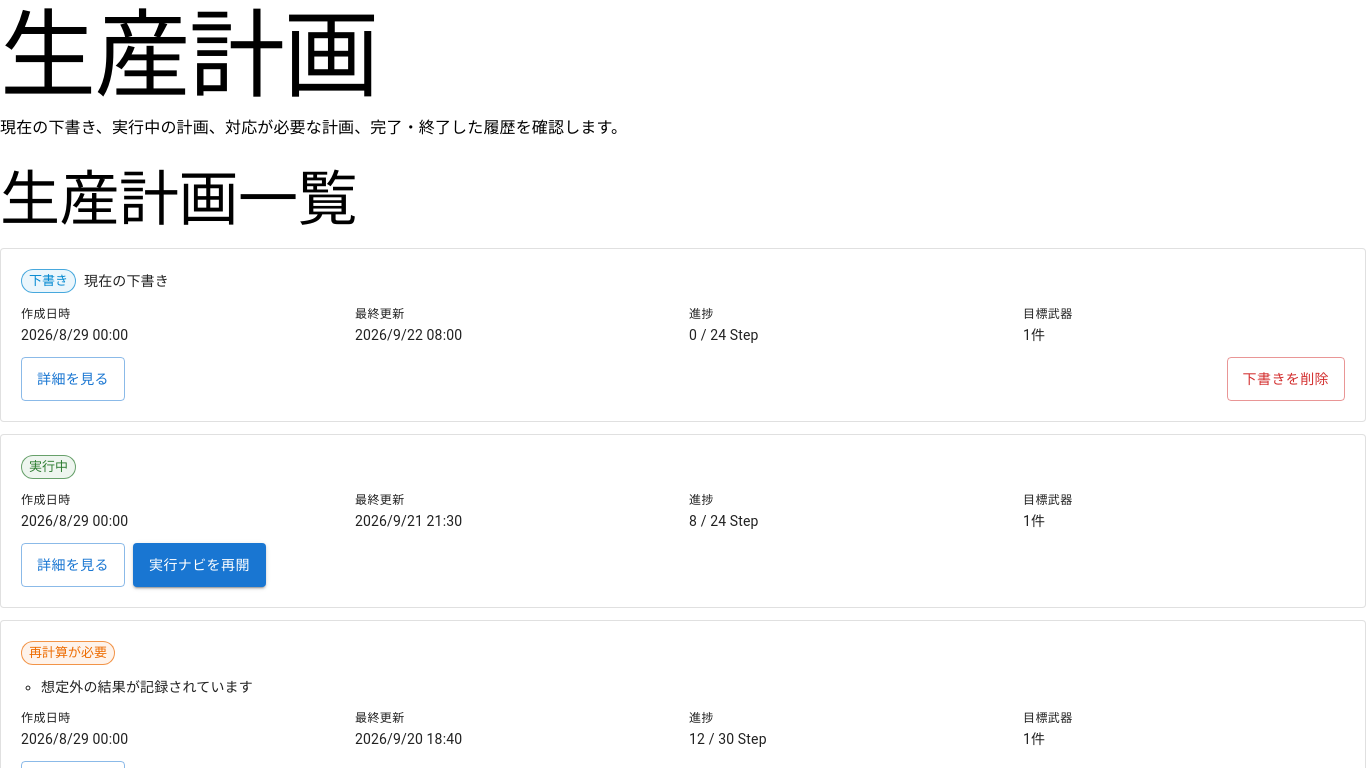
Test case: ProductionPlansPage › keeps the Draft listed and reports a typed refusal when the delete fails
The image size is (1366, 768).
Click the button "下書きを削除" at (1286, 379), box [1227,357,1345,401]
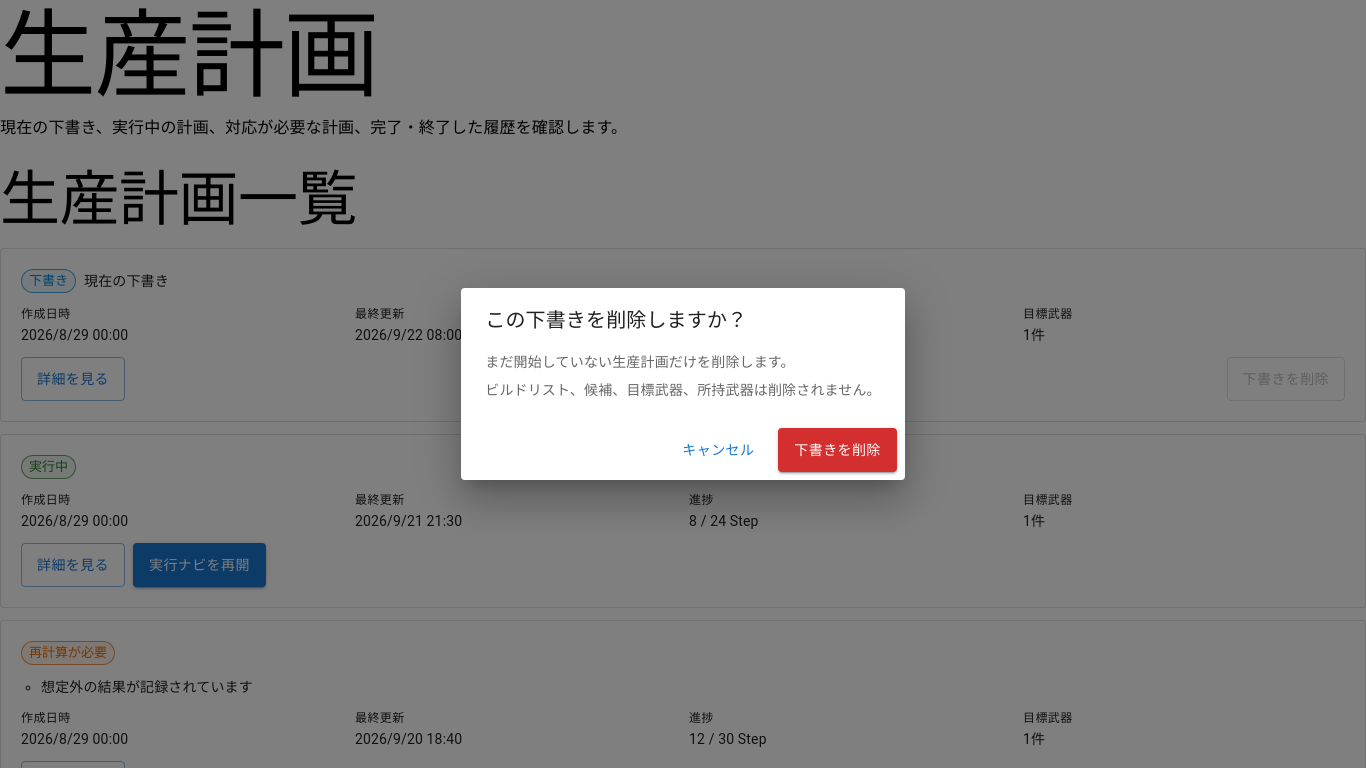
Click the button "下書きを削除" at (838, 450), box [778,428,897,472]
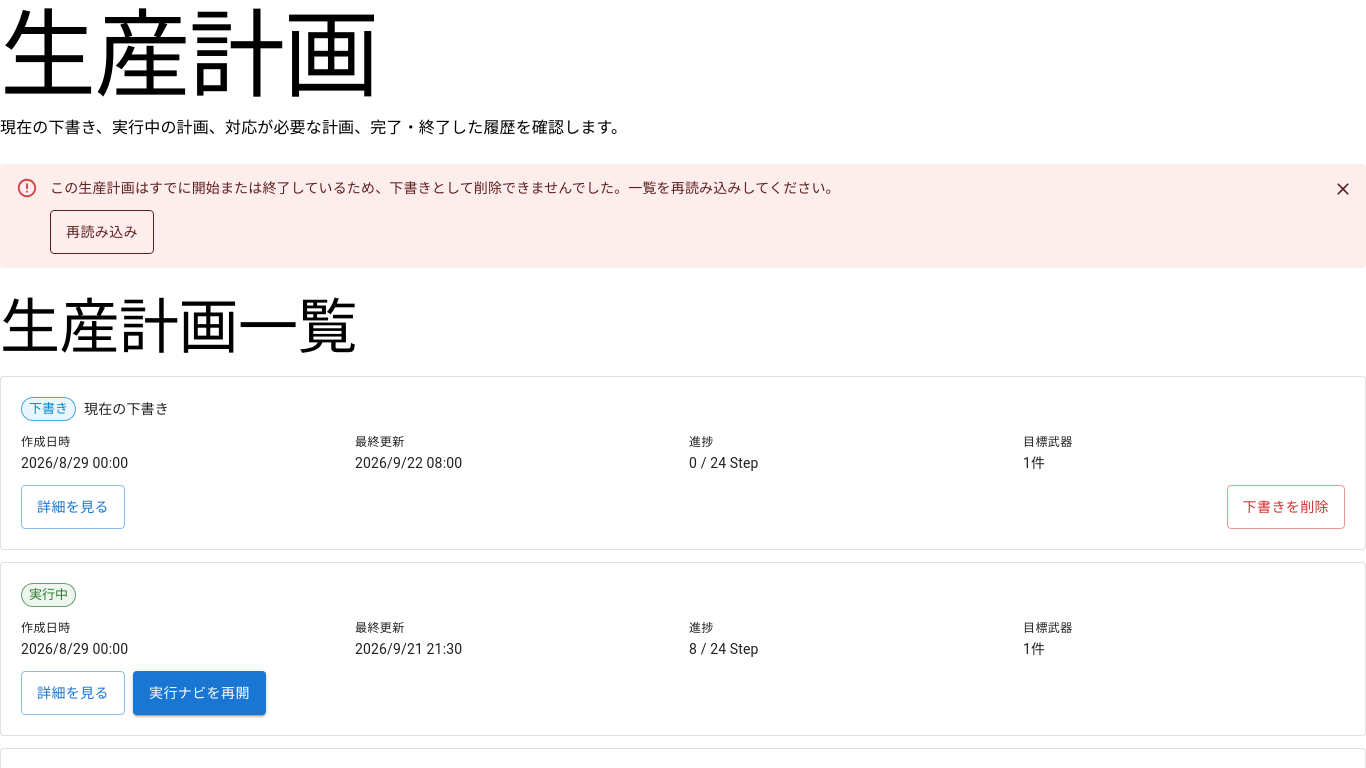
Expected: the message does not show "not a draft any more", [0,164,1365,268]
Expected: the message shows "この生産計画はすでに開始または終了しているため、下書きとして削除できませんでした。", [50,180,840,196]
Expected: the button "下書きを削除" is enabled, [1227,485,1345,529]
